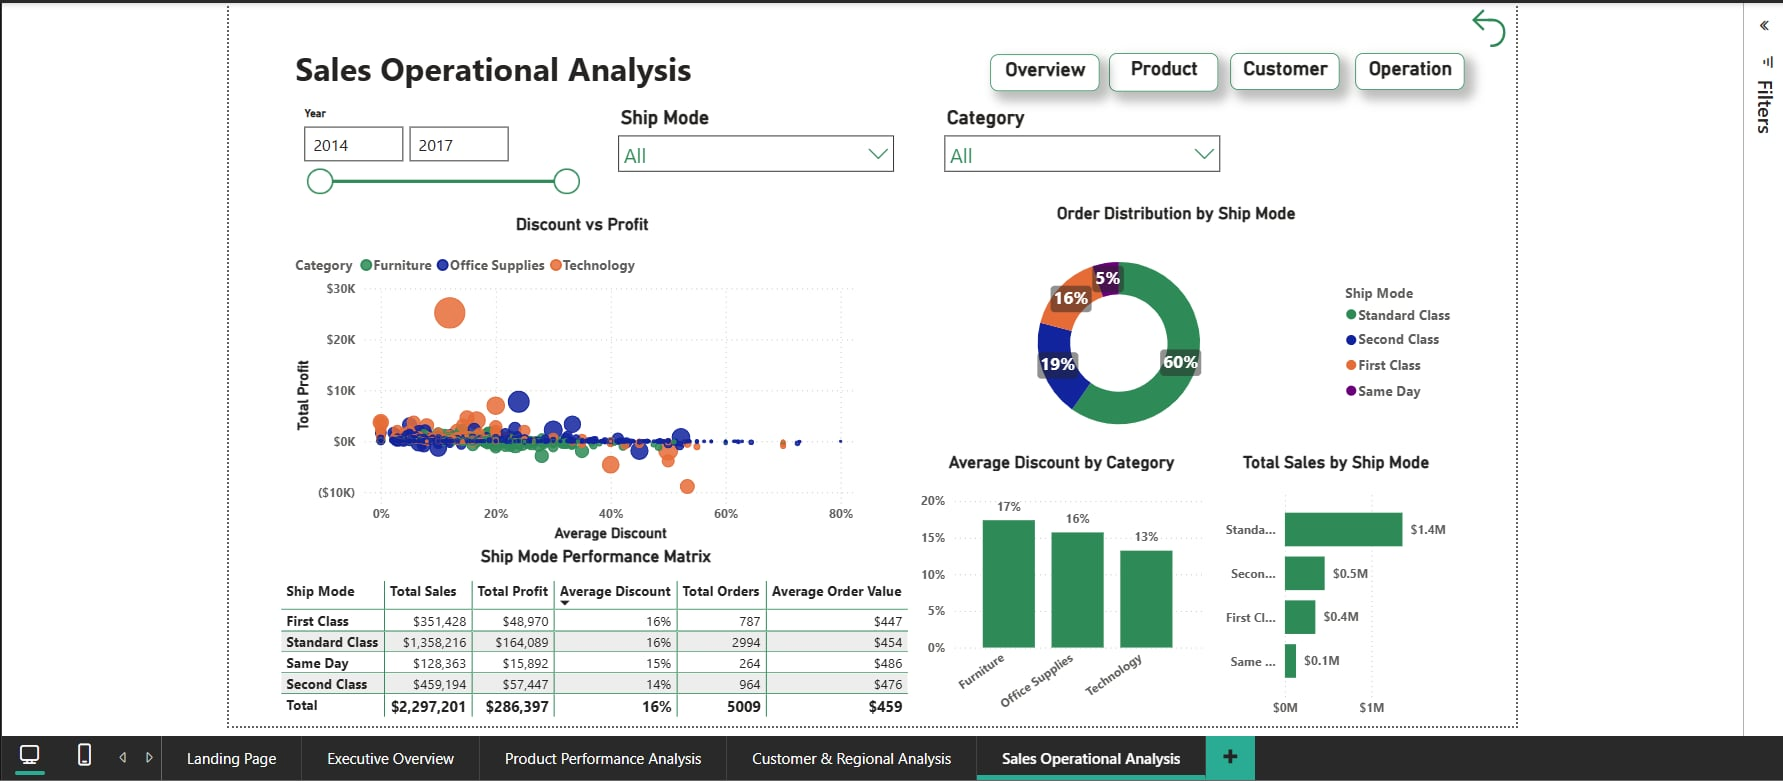

What the dashboard file says about the page in this screenshot:
{"tool":"powerbi","page":{"name":"Sales Operational Analysis","canvas":[1280,720],"ordinal":4},"visuals":[{"type":"textbox","box":[61.4,38.6,484.3,60],"z":0},{"type":"slicer","fields":{"Values":["Calendar.Year"]},"box":[62,98,295,100],"z":1000},{"type":"slicer","fields":{"Values":["Sample___Superstore.Ship Mode"]},"box":[376.7,98.3,295,100],"z":2000},{"type":"slicer","fields":{"Values":["Sample___Superstore.Category"]},"box":[701.7,98.3,295,100],"z":3000},{"type":"scatterChart","title":"Discount vs Profit","fields":{"X":["Measure.Average Discount"],"Size":["Measure.Total Sales"],"Series":["Sample___Superstore.Category"],"Category":["Sample___Superstore.Product Name"],"Y":["Measure.Total Profit"]},"box":[61.4,210,581.4,330],"z":4000},{"type":"clusteredBarChart","fields":{"Category":["Sample___Superstore.Ship Mode"],"Y":["Measure.Total Sales"]},"box":[974.3,447.1,255.7,272.9],"z":5000},{"type":"donutChart","title":"Order Distribution by Ship Mode","fields":{"Category":["Sample___Superstore.Ship Mode"],"Y":["Measure.Total Orders"]},"box":[655.7,198.6,574.3,248.6],"z":6000},{"type":"clusteredColumnChart","fields":{"Category":["Sample___Superstore.Category"],"Y":["Measure.Average Discount"]},"box":[682.9,447.1,291.4,272.9],"z":7000},{"type":"pivotTable","title":"Ship Mode Performance Matrix","fields":{"Rows":["Sample___Superstore.Ship Mode"],"Values":["Measure.Total Sales","Measure.Total Profit","Measure.Average Discount","Measure.Total Orders","Measure.Average Order Value"]},"box":[47.1,540,635.7,180],"z":8000},{"type":"actionButton","title":"Operation","box":[1121.4,50,108.6,37.1],"z":9000},{"type":"actionButton","title":"Customer","box":[997,50,108.6,37.1],"z":10000},{"type":"actionButton","title":"Product","box":[876.2,50,108.8,38.8],"z":11000},{"type":"actionButton","title":"Overview","box":[757,51,108.6,37.1],"z":12000},{"type":"actionButton","box":[1229,0,51,49.8],"z":13000}]}

Visuals, with their boxes on the page's 1280x720 design canvas (x1, y1, x2, y2). These are canvas units, not pixel positions in the 1783x781 screenshot, which may show the page scaled, cropped or inside an application window:
textbox: detection(61, 39, 546, 99)
slicer - Calendar.Year: detection(62, 98, 357, 198)
slicer - Sample___Superstore.Ship Mode: detection(377, 98, 672, 198)
slicer - Sample___Superstore.Category: detection(702, 98, 997, 198)
"Discount vs Profit" scatterChart: detection(61, 210, 643, 540)
clusteredBarChart - Sample___Superstore.Ship Mode x Measure.Total Sales: detection(974, 447, 1230, 720)
"Order Distribution by Ship Mode" donutChart: detection(656, 199, 1230, 447)
clusteredColumnChart - Sample___Superstore.Category x Measure.Average Discount: detection(683, 447, 974, 720)
"Ship Mode Performance Matrix" pivotTable: detection(47, 540, 683, 720)
"Operation" actionButton: detection(1121, 50, 1230, 87)
"Customer" actionButton: detection(997, 50, 1106, 87)
"Product" actionButton: detection(876, 50, 985, 89)
"Overview" actionButton: detection(757, 51, 866, 88)
actionButton: detection(1229, 0, 1280, 50)
